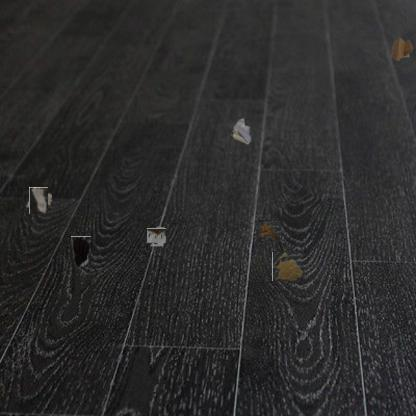dirty: (229, 116, 253, 144), (389, 36, 413, 62), (27, 189, 50, 212), (259, 221, 279, 242), (148, 227, 165, 245)
liquid: (272, 251, 303, 281), (71, 236, 91, 267)
